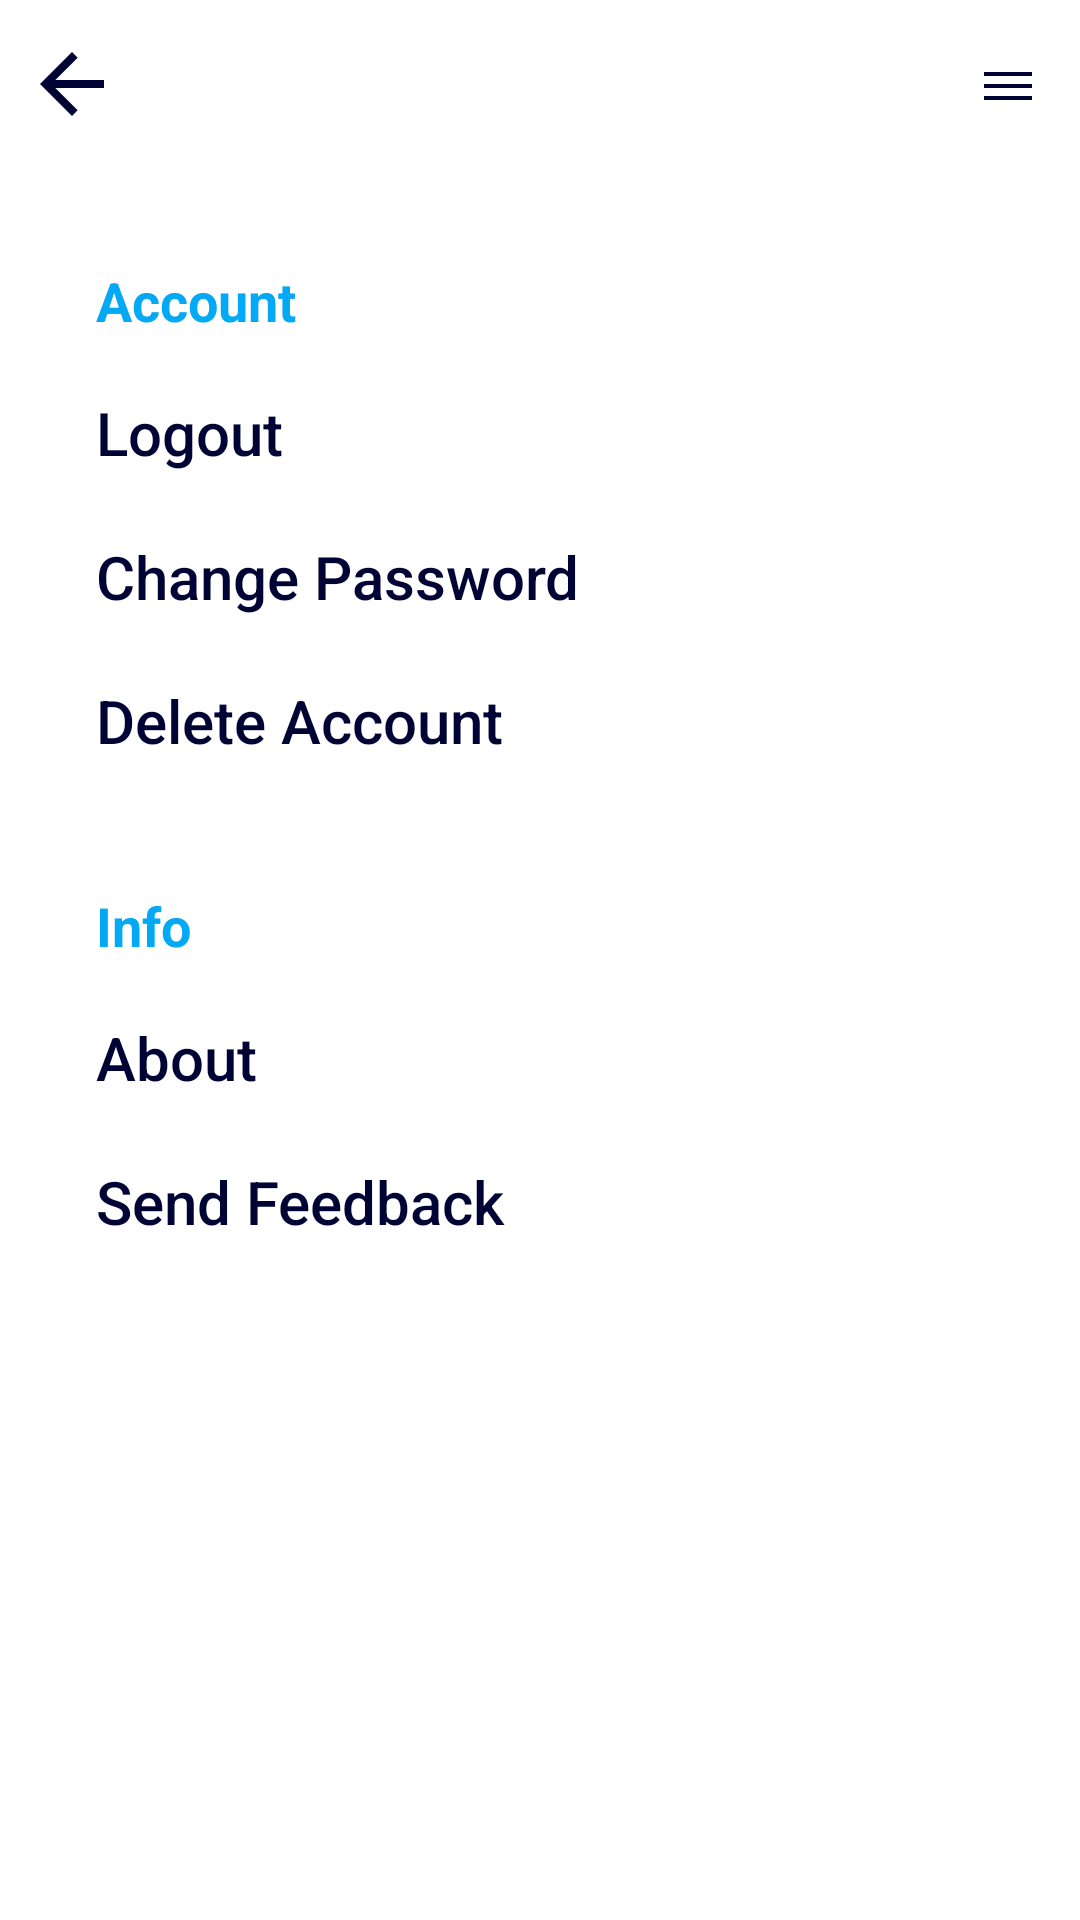

Named icons in this screenshot (1080px x 1920px) and their centers, (x,y):
arrow back: (72,84)
